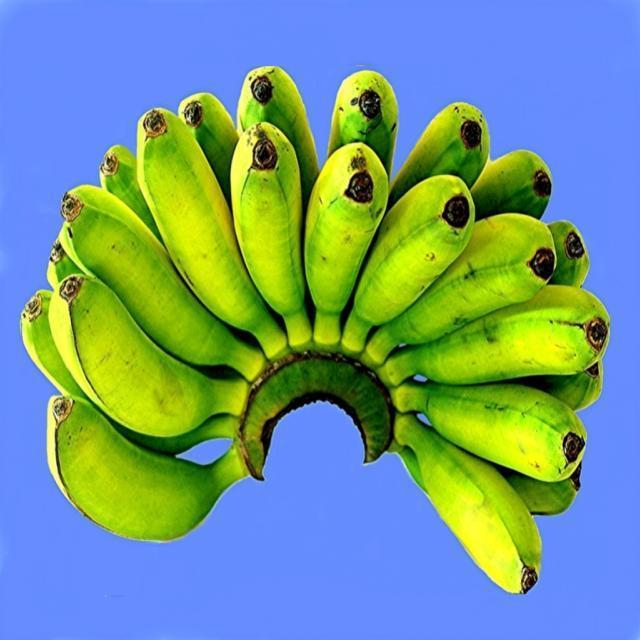Banana: (21, 66, 610, 595)
